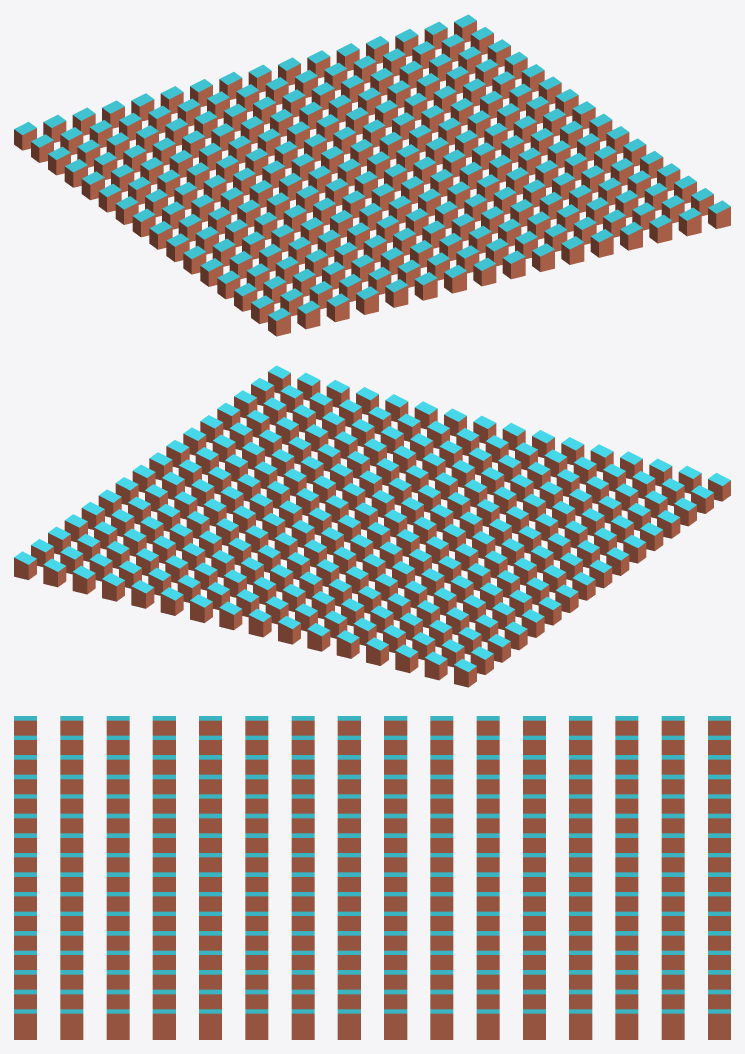
Rendered from workload-256.glb.
3 views of the same model, one above another, from view 1: azimuth 30°, elevation 25°; view 2: azimuth 150°, elevation 25°; view 3: azimuth 270°, elevation 25° (orthographic). The views are drawn at different scales.
Parts seen in each view (by area): view 1: Grid 001, Grid 005, Grid 002, Grid 004, Grid 008, Grid 007, Grid 010, Grid 013, Grid 011, Grid 014, Grid 000, Grid 003 (+4 smaller); view 2: Grid 241, Grid 245, Grid 242, Grid 244, Grid 248, Grid 247, Grid 250, Grid 253, Grid 251, Grid 254, Grid 240, Grid 243 (+4 smaller); view 3: Grid 031, Grid 047, Grid 063, Grid 095, Grid 111, Grid 127, Grid 143, Grid 159, Grid 175, Grid 207, Grid 223, Grid 239 (+4 smaller).
Part boxes in pixels (x1,y1,x2,y2): Grid 001: (297, 300, 320, 329); Grid 005: (414, 272, 437, 300); Grid 002: (326, 293, 349, 322); Grid 004: (385, 279, 408, 307); Grid 008: (502, 250, 525, 279); Grid 007: (473, 257, 496, 286); Grid 010: (561, 236, 584, 264); Grid 013: (649, 214, 672, 243); Grid 011: (590, 229, 613, 257); Grid 014: (678, 207, 701, 236); Grid 000: (268, 307, 290, 336); Grid 003: (356, 286, 378, 314); Grid 241: (424, 651, 447, 680); Grid 245: (307, 623, 330, 651); Grid 242: (395, 644, 418, 673); Grid 244: (336, 630, 359, 658); Grid 248: (219, 601, 242, 630); Grid 247: (248, 608, 271, 637); Grid 250: (160, 587, 183, 615); Grid 253: (72, 565, 95, 594); Grid 251: (131, 580, 154, 608); Grid 254: (43, 558, 66, 587); Grid 240: (454, 658, 476, 687); Grid 243: (366, 637, 388, 665); Grid 031: (60, 1009, 83, 1039); Grid 047: (106, 1009, 129, 1039); Grid 063: (152, 1009, 175, 1039); Grid 095: (245, 1009, 268, 1039); Grid 111: (291, 1009, 314, 1039); Grid 127: (337, 1009, 360, 1039); Grid 143: (384, 1009, 407, 1039); Grid 159: (430, 1009, 453, 1039); Grid 175: (476, 1009, 499, 1039); Grid 207: (569, 1009, 592, 1039); Grid 223: (615, 1009, 638, 1039); Grid 239: (661, 1009, 684, 1039).
Bounding box in the file's own units: 31 × 1.25 × 31.
